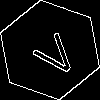V: (25, 25, 82, 81)
